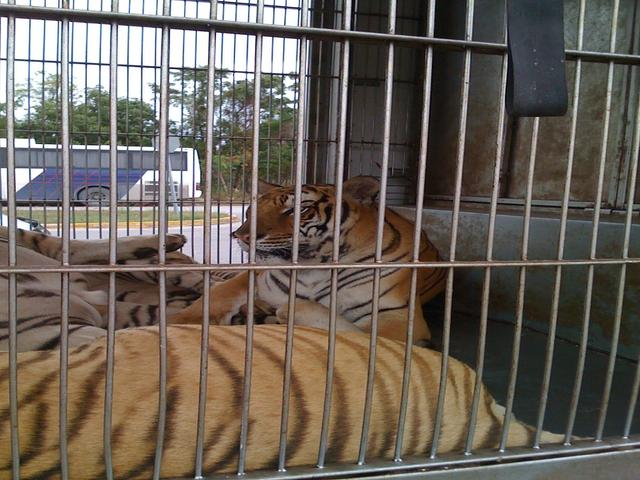tiger: (5, 294, 566, 472), (201, 164, 500, 356)
